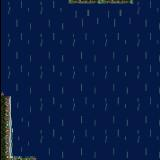Interaction: (0, 88, 14, 160), (13, 146, 50, 160)
Slow: (0, 0, 160, 95), (12, 97, 160, 155)
